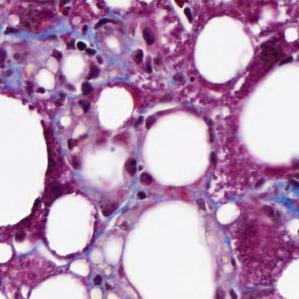inflammation: (70, 33, 110, 117)
